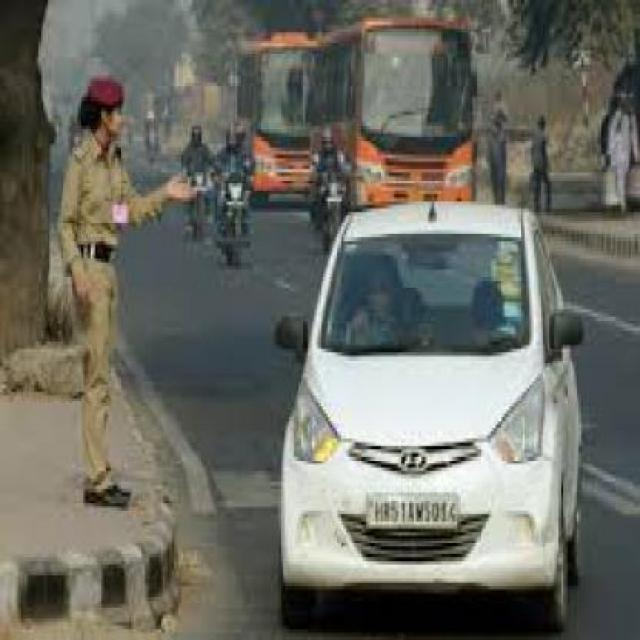vehicle: (269, 200, 602, 636)
